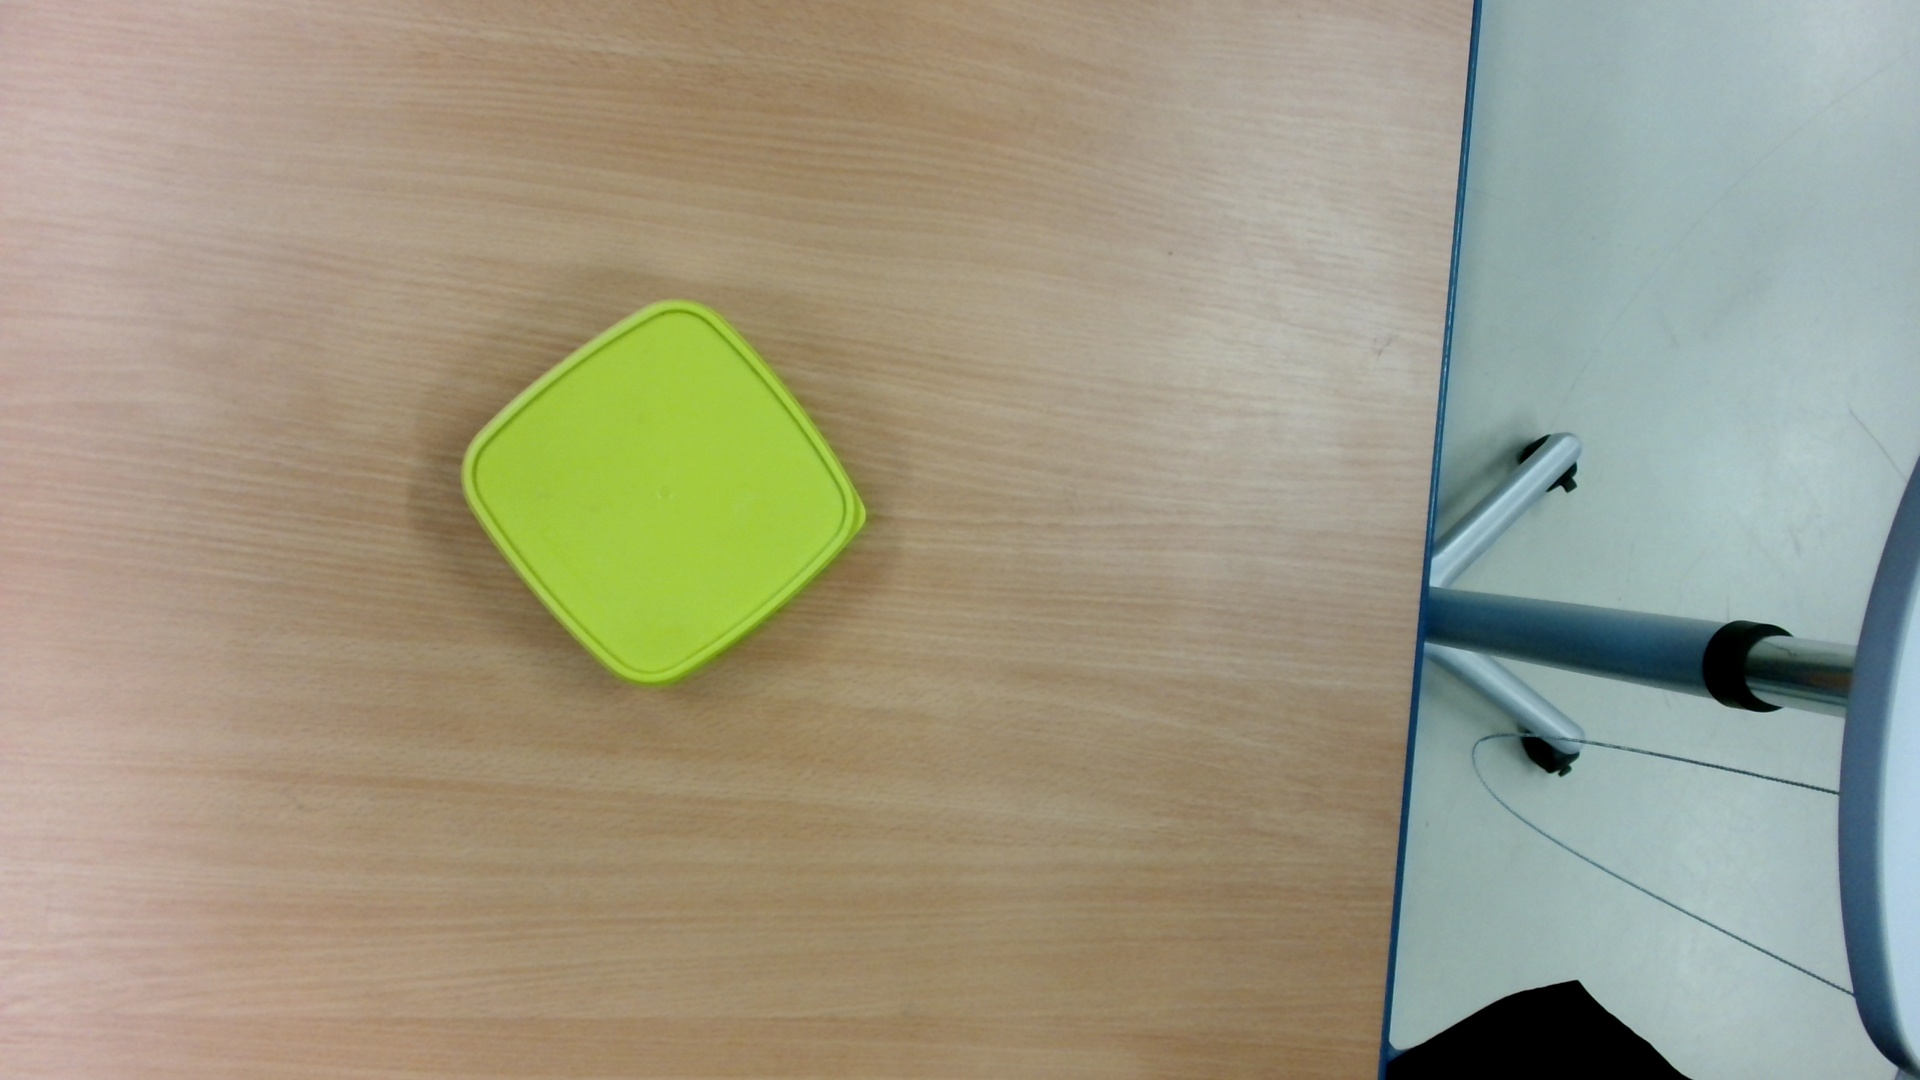Box: (454, 291, 884, 694)
